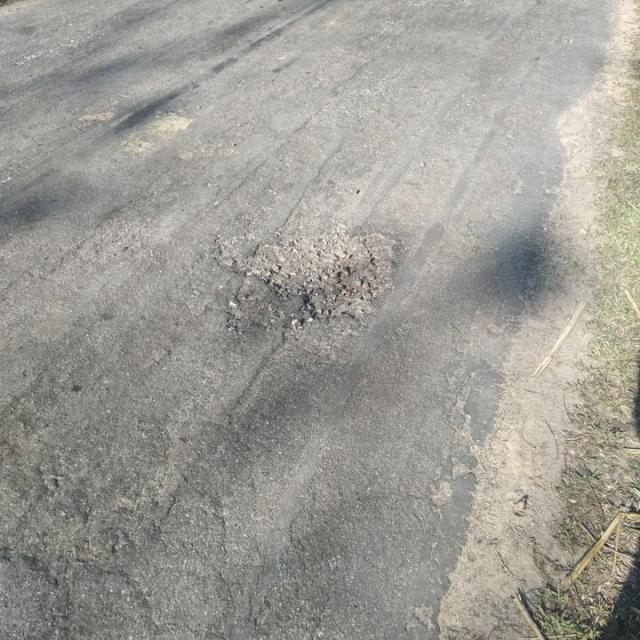Pothole: (216, 224, 407, 326)
